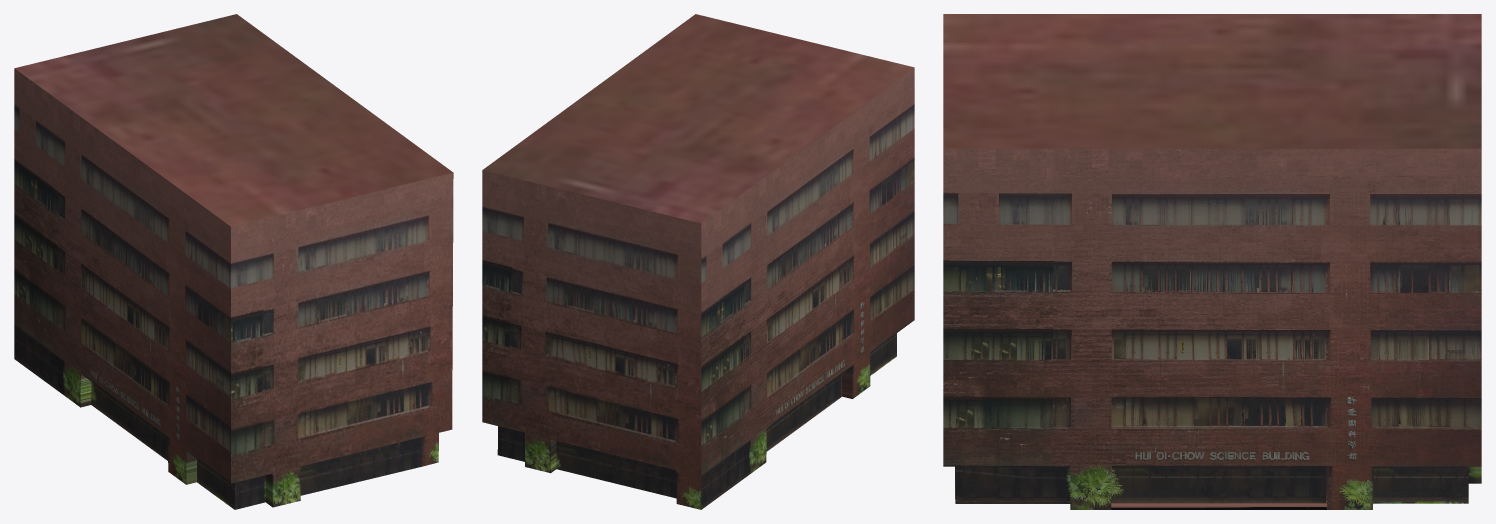
File: XuAiZhou.fbx
The picture shows the model from 3 angles, left to right: view 1: azimuth 30°, elevation 25°; view 2: azimuth 150°, elevation 25°; view 3: azimuth 270°, elevation 25°; orthographic projection. The views are drawn at different scales.
Visible parts, largest first — view 1: XuAiZhou; view 2: XuAiZhou; view 3: XuAiZhou.
Boxes of the visible parts, x1,y1,x2,y2 form: XuAiZhou: (14,14,453,509); XuAiZhou: (482,14,914,509); XuAiZhou: (943,14,1481,509).
Bounding box in the file's own units: 8 × 10 × 13.5.
Materials: 1 (1 with a texture image).
